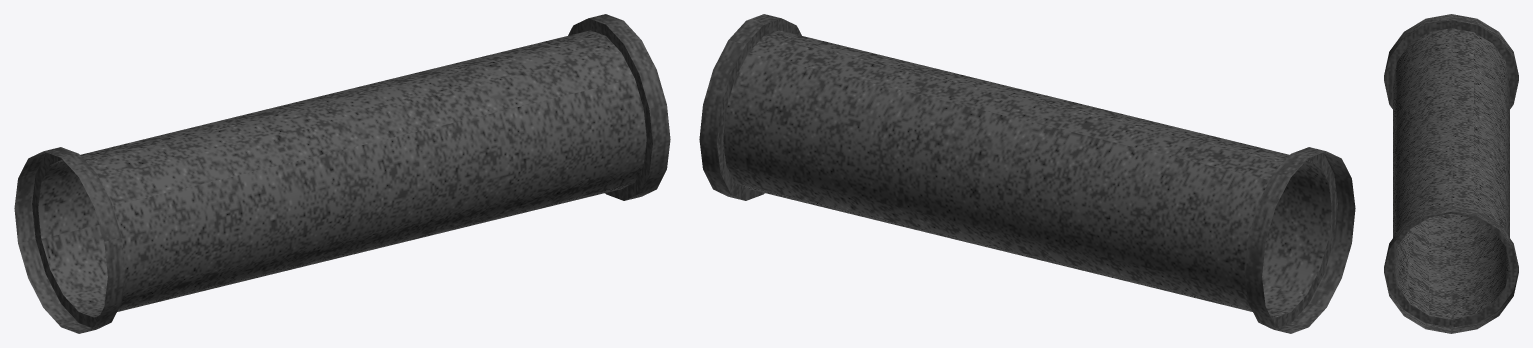
Rendered from Pipe1.fbx.
3 views of the same model, side by side, from view 1: azimuth 30°, elevation 25°; view 2: azimuth 150°, elevation 25°; view 3: azimuth 270°, elevation 25° (orthographic). The views are drawn at different scales.
Parts seen in each view (by area): view 1: Cylinder; view 2: Cylinder; view 3: Cylinder.
Boxes of the visible parts, <box> form: Cylinder: <box>14,14,670,333</box>; Cylinder: <box>699,14,1355,333</box>; Cylinder: <box>1384,14,1518,333</box>.
Size of the model in its own units: 800 by 230 by 230.
